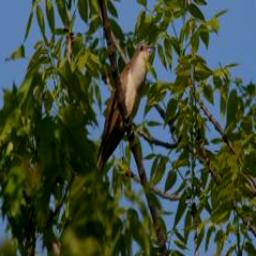Cuckoo: (93, 41, 153, 178)
